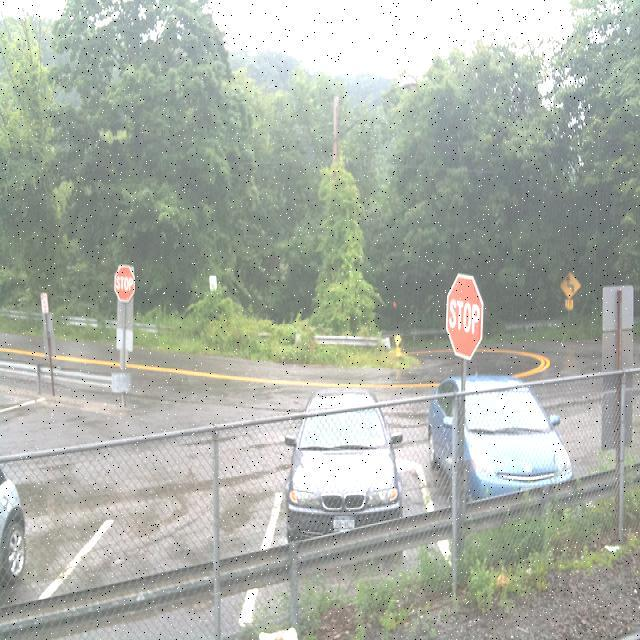fire_hydrant: (394, 334, 402, 354)
